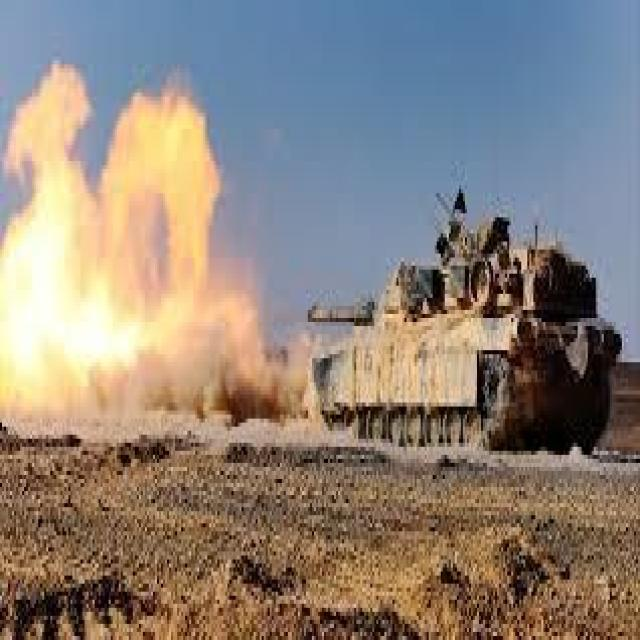Tanks: (281, 189, 623, 467)
